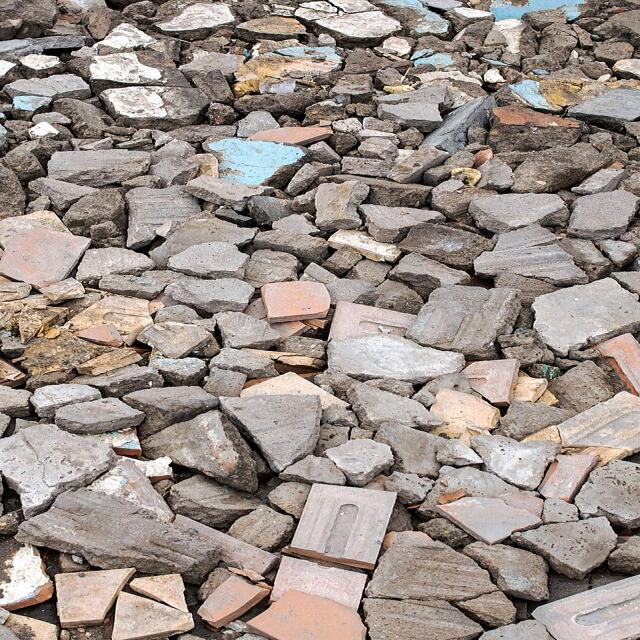Pecahan Agregat: (52, 35, 630, 620)
